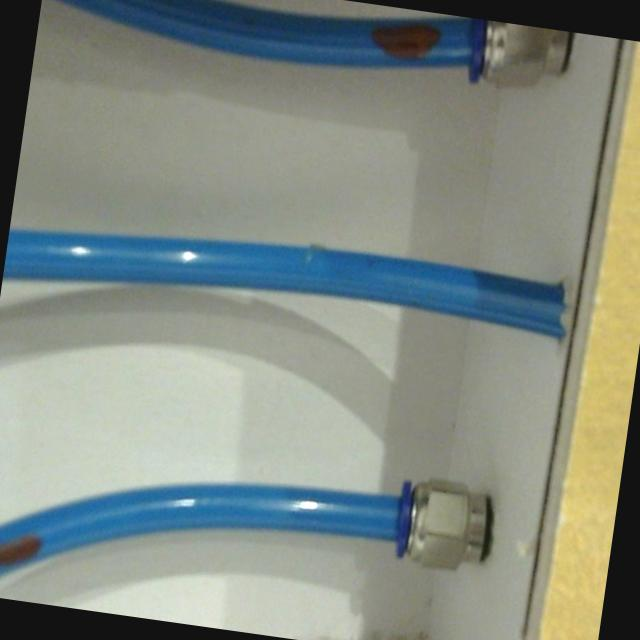hose_damage: (361, 9, 446, 72), (0, 518, 52, 577)
